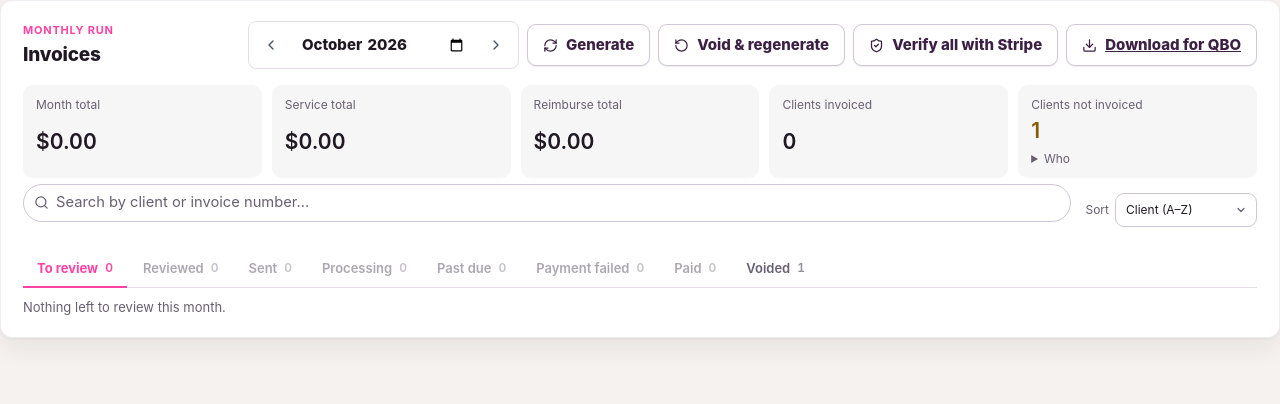
Test: InvoiceMonthRun — the confidence badge › shows nothing on a voided row
# It sits in Voided, which is not where the run opens.
Click the tab "Voided 1" at (776, 269), box top-left (732, 250), bottom-right (819, 288)
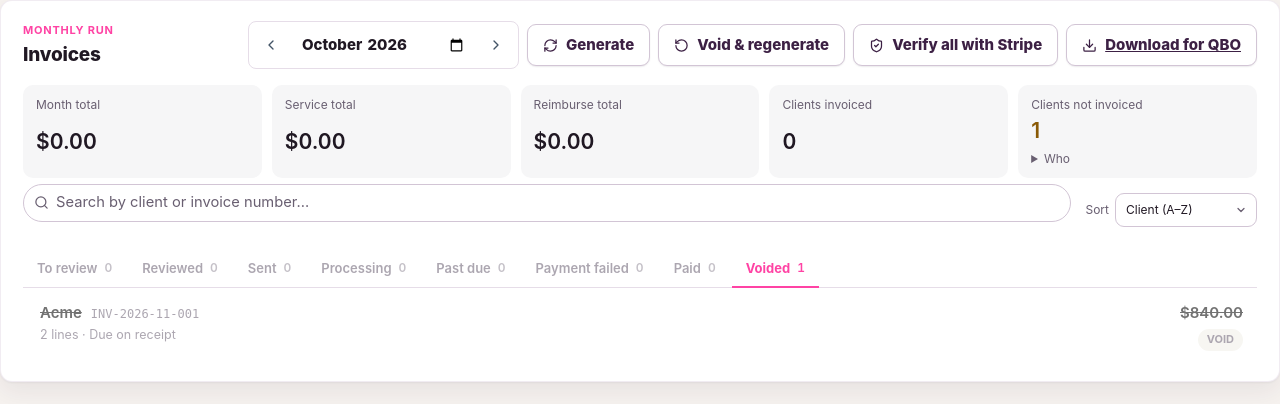
Now the text "INV-2026-11-001" is shown, box top-left (91, 306), bottom-right (199, 324)
